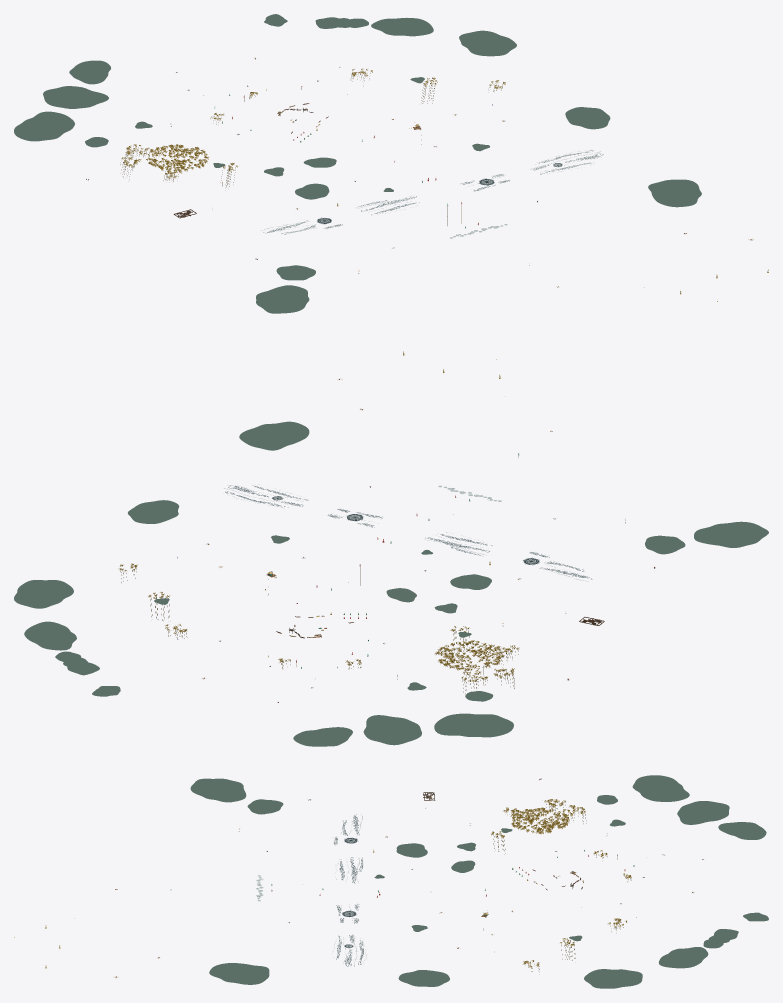
The model's file is dynamic.glb.
The picture shows the model from 3 angles, top to bottom: view 1: azimuth 30°, elevation 25°; view 2: azimuth 150°, elevation 25°; view 3: azimuth 270°, elevation 25°; orthographic projection. The views are drawn at different scales.
Visible parts, largest first — view 1: Surface_-2_0, Surface_1_-1, Surface_-2_4, Surface_2_4, Surface_-2_-1, Surface_2_0, Surface_2_2, Surface_-1_2, Surface_-1_-1, Surface_-2_3, Surface_0_3; view 2: Surface_-2_0, Surface_1_-1, Surface_-2_4, Surface_2_4, Surface_-2_-1, Surface_2_0, Surface_2_2, Surface_-1_-1, Surface_-1_2, Surface_-2_3, Surface_0_3; view 3: Surface_-2_0, Surface_1_-1, Surface_-2_4, Surface_2_4, Surface_-2_-1, Surface_2_0, Surface_2_2, Surface_-1_-1, Surface_-1_2, Surface_-2_3, Surface_0_3.
Part boxes in pixels (bbox=[...]): Surface_-2_0: bbox=[14, 111, 152, 147]; Surface_1_-1: bbox=[315, 17, 433, 36]; Surface_-2_4: bbox=[256, 285, 309, 313]; Surface_2_4: bbox=[648, 179, 701, 207]; Surface_-2_-1: bbox=[43, 86, 108, 108]; Surface_2_0: bbox=[459, 30, 516, 56]; Surface_2_2: bbox=[565, 107, 610, 129]; Surface_-1_2: bbox=[295, 157, 388, 207]; Surface_-1_-1: bbox=[69, 60, 110, 84]; Surface_-2_3: bbox=[263, 220, 315, 280]; Surface_0_3: bbox=[261, 149, 601, 238]; Surface_-2_0: bbox=[407, 682, 513, 737]; Surface_1_-1: bbox=[24, 621, 99, 675]; Surface_-2_4: bbox=[694, 521, 768, 547]; Surface_2_4: bbox=[239, 421, 309, 450]; Surface_-2_-1: bbox=[363, 715, 421, 745]; Surface_2_0: bbox=[14, 580, 73, 608]; Surface_2_2: bbox=[128, 500, 179, 523]; Surface_-1_-1: bbox=[293, 727, 352, 746]; Surface_-1_2: bbox=[386, 546, 491, 602]; Surface_-2_3: bbox=[539, 535, 685, 579]; Surface_0_3: bbox=[223, 484, 588, 581]; Surface_-2_0: bbox=[597, 775, 689, 826]; Surface_1_-1: bbox=[658, 929, 738, 968]; Surface_-2_4: bbox=[190, 778, 246, 802]; Surface_2_4: bbox=[209, 963, 269, 984]; Surface_-2_-1: bbox=[677, 801, 729, 824]; Surface_2_0: bbox=[584, 969, 642, 988]; Surface_2_2: bbox=[398, 970, 449, 986]; Surface_-1_-1: bbox=[718, 822, 766, 839]; Surface_-1_2: bbox=[358, 843, 475, 872]; Surface_-2_3: bbox=[247, 799, 359, 835]; Surface_0_3: bbox=[256, 814, 366, 966].
Size of the model in its own units: 591 by 56.32 by 883.
